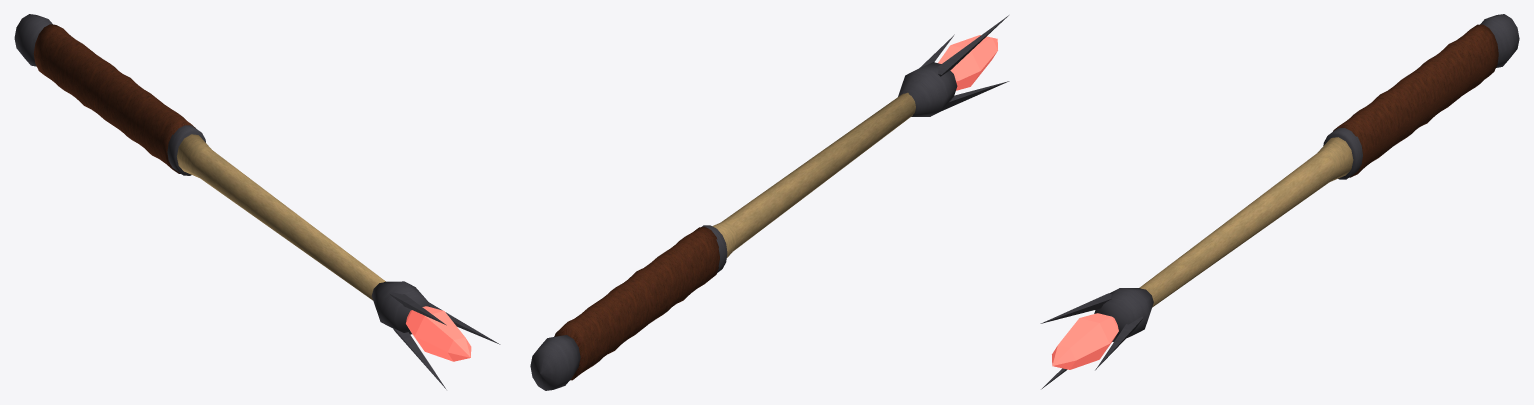
File: weapon_sting_wand.glb
3 renders of one model, left to right at view 1: azimuth 30°, elevation 25°; view 2: azimuth 150°, elevation 25°; view 3: azimuth 330°, elevation 25°, orthographic. The views are drawn at different scales.
Visible parts, largest first — view 1: sting_wand; view 2: sting_wand; view 3: sting_wand.
Boxes of the visible parts, x1,y1,x2,y2 form: sting_wand: (14,14,500,389); sting_wand: (530,15,1009,390); sting_wand: (1040,14,1519,389).
Bounding box in the file's own units: 0.032 × 0.0346 × 0.43.
Materials: 4 (3 with a texture image).
